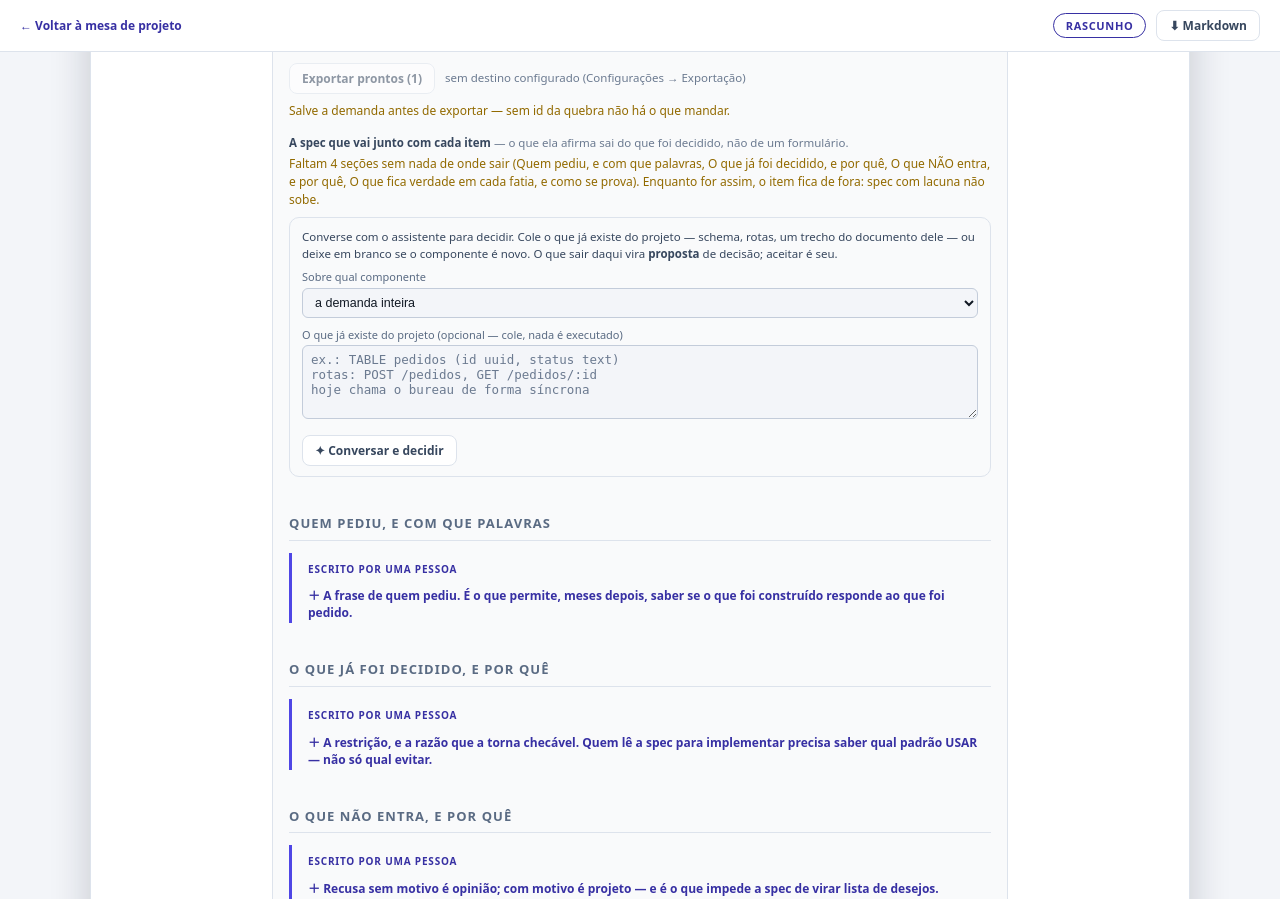
DocumentoScreen — a conversa que produz a spec (SPEC-115 fatia F) › zero propostas é resposta legítima, e a tela não finge que deu errado
(page scrolled)
Click the button with test id "conversar-sobre-a-spec": (379, 450) [302, 435, 457, 466]
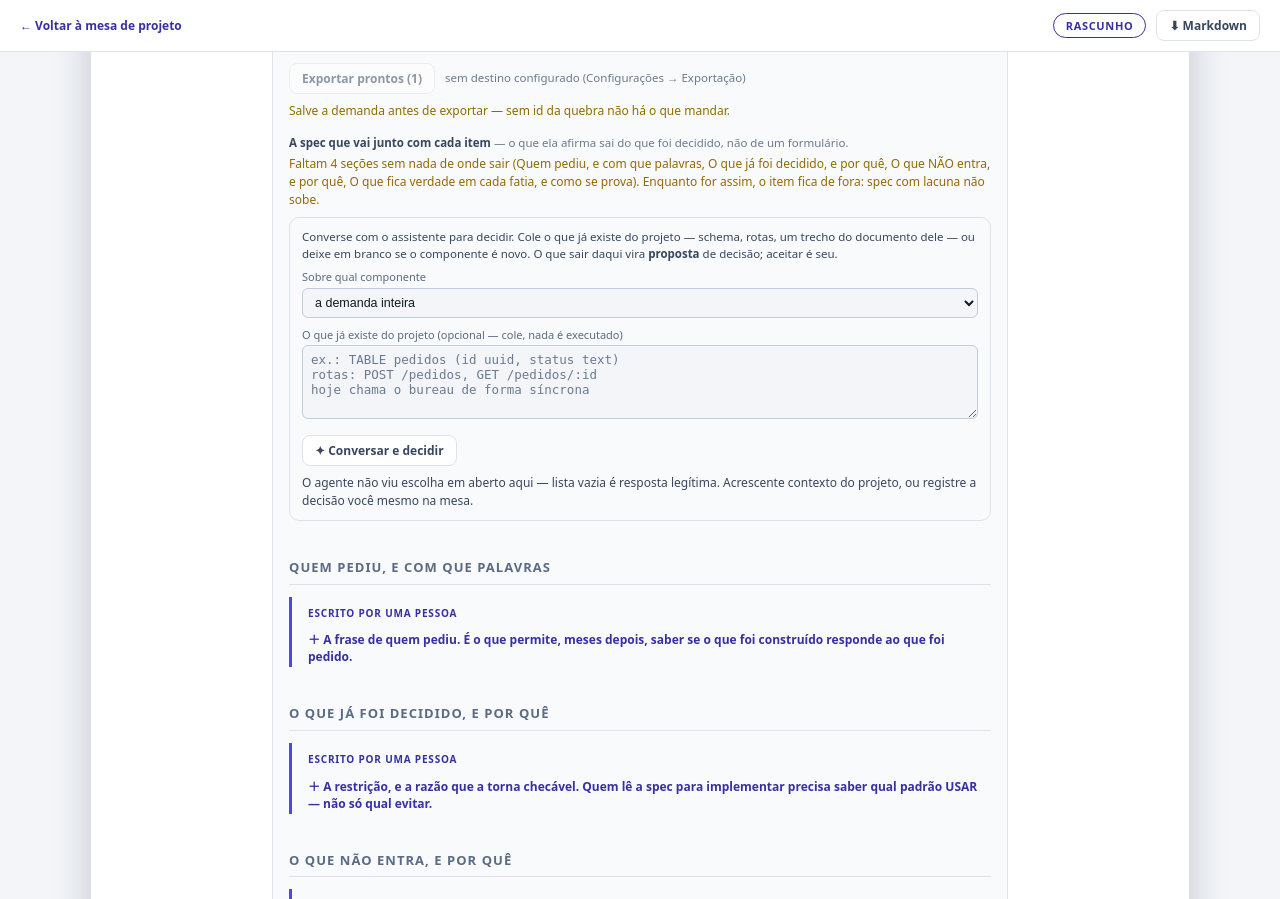
Expected: the text with test id "resposta-da-conversa" shows "lista vazia é resposta legítima", [302, 474, 976, 509]
